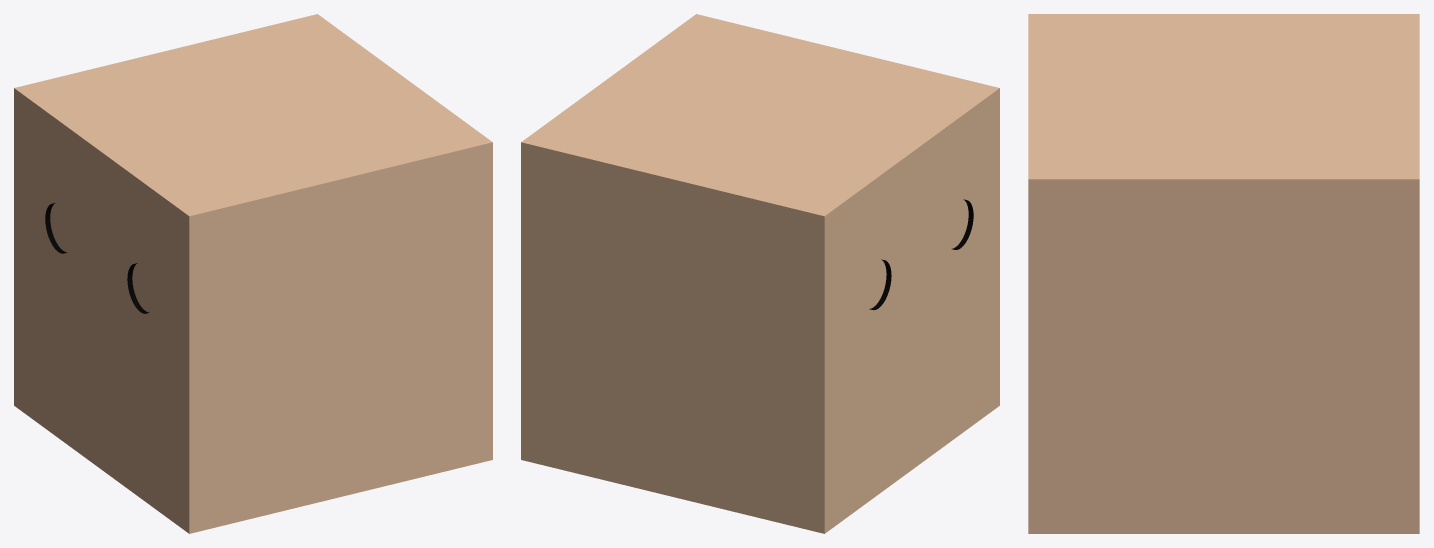
File: Player.fbx
3 renders of one model, left to right at view 1: azimuth 30°, elevation 25°; view 2: azimuth 150°, elevation 25°; view 3: azimuth 270°, elevation 25°, orthographic. The views are drawn at different scales.
Visible parts, largest first — view 1: Player; view 2: Player; view 3: Player.
Part boxes in pixels (x1,y1,x2,y2): Player: (14,14,492,533); Player: (521,14,999,533); Player: (1028,14,1419,533).
Bounding box in the file's own units: 203 × 200 × 200.
